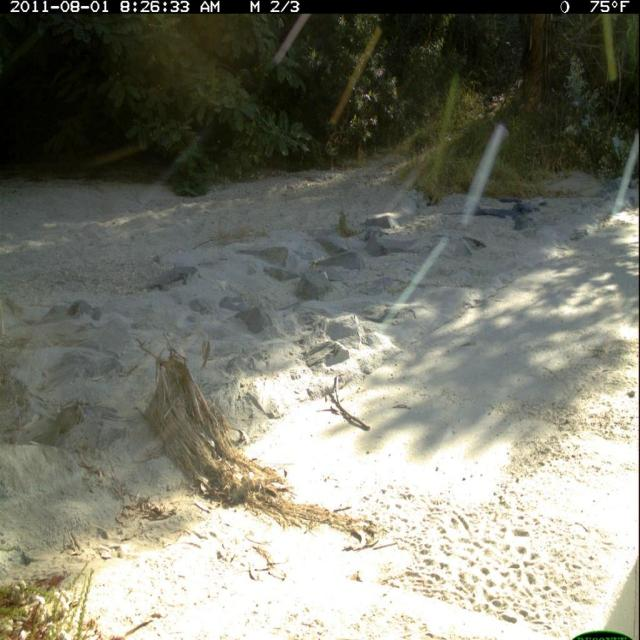squirrel: (43, 397, 88, 449)
